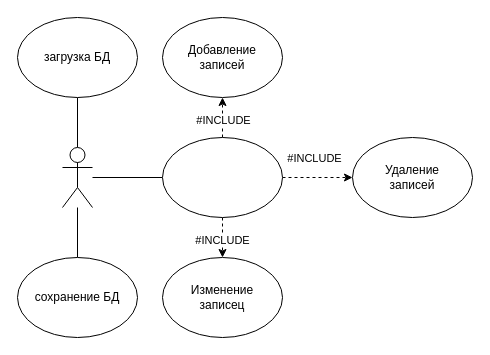
This 490x355 diagram has some shape labels left out. The shapes that lost their labels are listed below. From the top down, each one's centre as x and y in pixels, then its label:
At point 77,177: "Администратор".
At point 222,177: "Редактирование".
